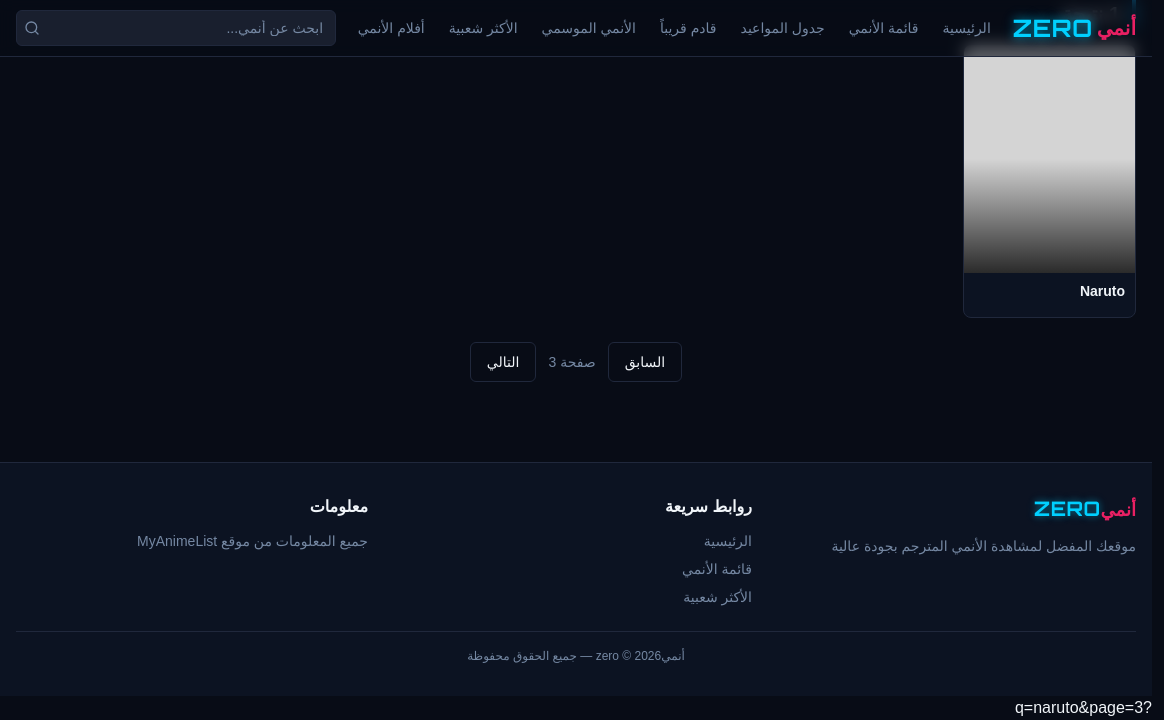
Test case: SearchPage › reads q and page from the URL and preserves q when paging
(page scrolled)
Expected: the text "صفحة 3" is shown, 548,354 -> 596,370
What coordinates should you click on to do the following:
click the button "السابق"
I would click on:
 (645, 362)
Its box is 608,342 -> 682,382.
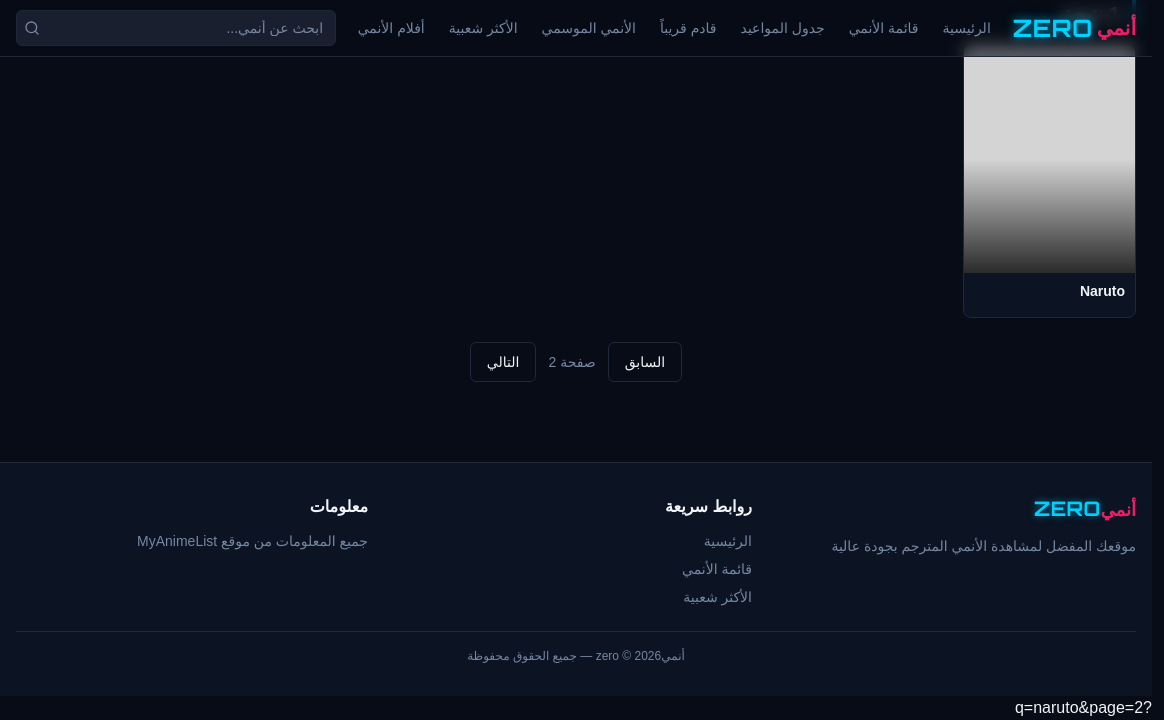
Result: the text with test id "location-search" reads "?q=naruto&page=2" at 1015,699 -> 1152,716
